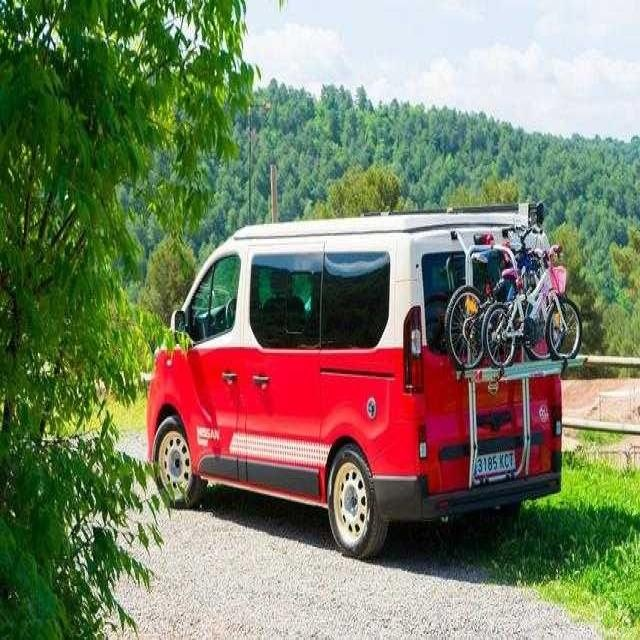Van: (145, 202, 584, 570)
